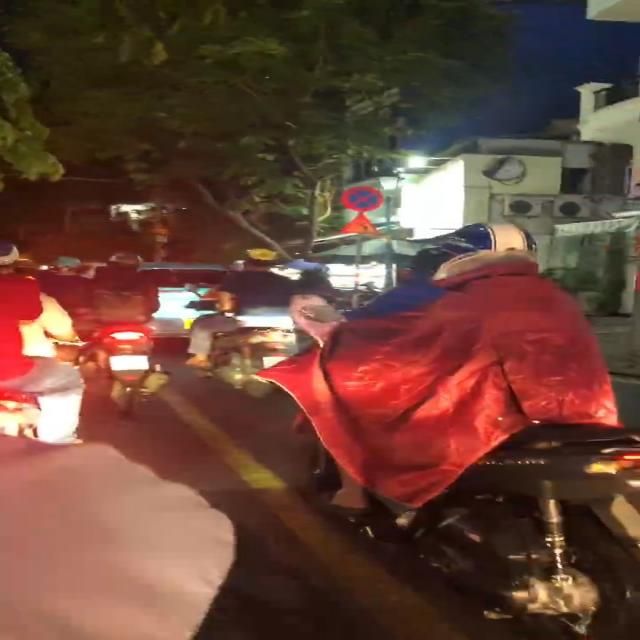Bien bao cam dung xe va do xe: (336, 186, 389, 211)
